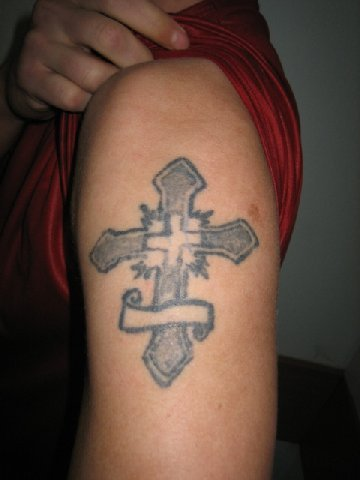tatu9_krest: (92, 138, 254, 379)
